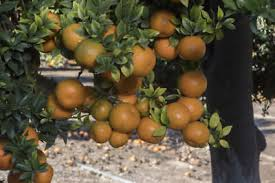orange: (125, 45, 155, 74), (76, 40, 107, 68), (111, 103, 141, 131), (56, 79, 86, 107), (136, 118, 167, 144), (161, 102, 191, 128), (177, 93, 207, 119), (180, 68, 208, 95), (59, 24, 89, 48), (150, 12, 180, 34), (153, 37, 178, 63), (178, 38, 206, 60)
